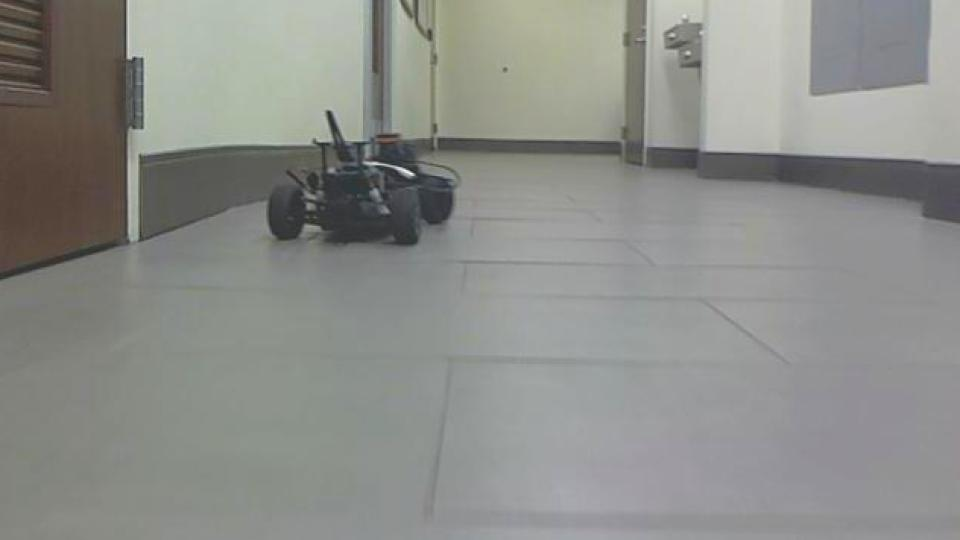car: (264, 106, 464, 249)
